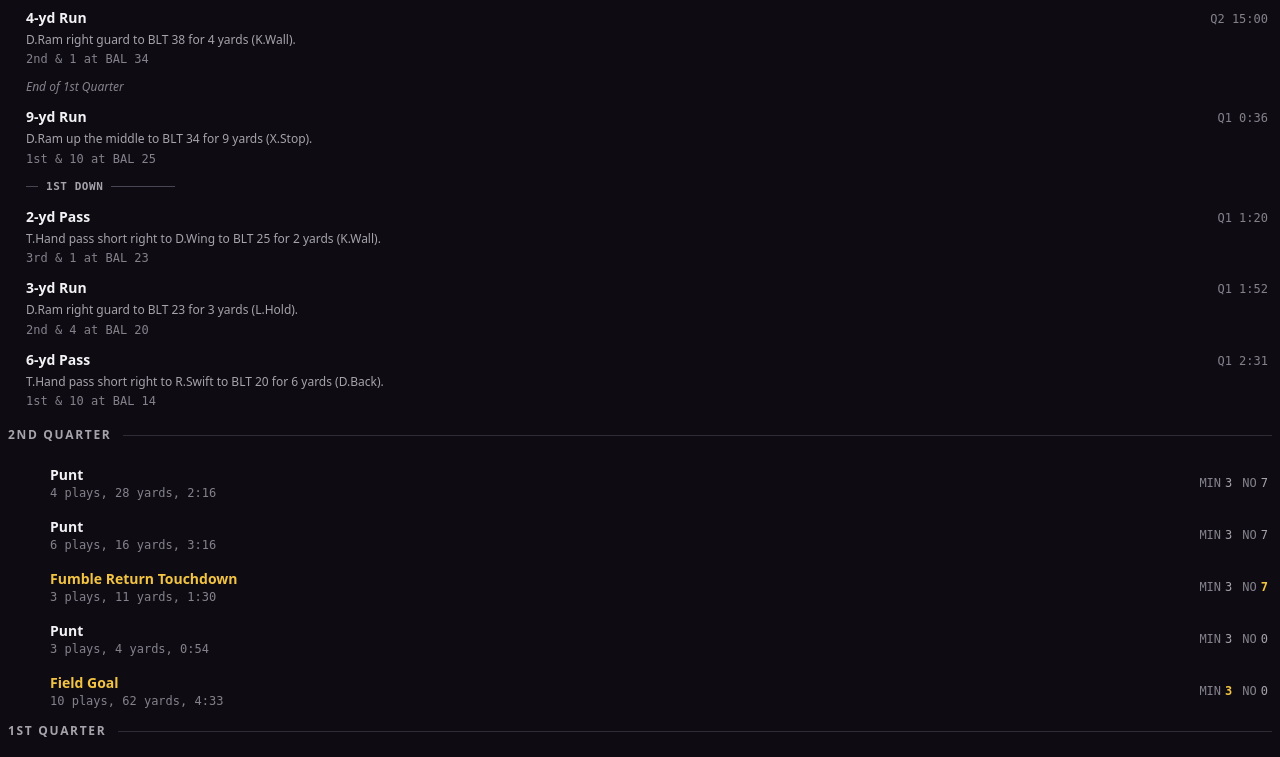
GameDetail plays on the field › puts a picked play on the field
The image size is (1280, 757).
(page scrolled)
Click the text "Field Goal" at [84, 683], box [50,673,118,692]
(page scrolled)
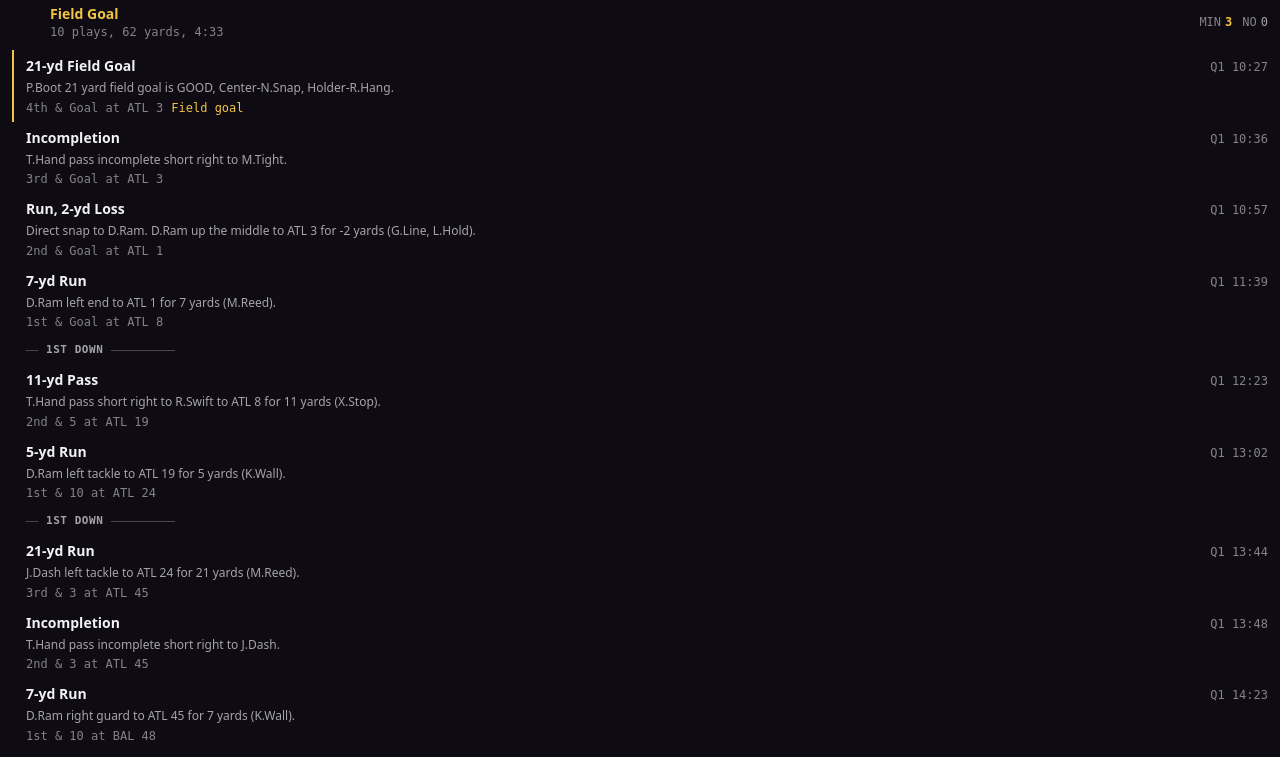
Click the button named "2nd & 5 at ATL 19" at [62, 380], box [12,364,1272,436]
(page scrolled)
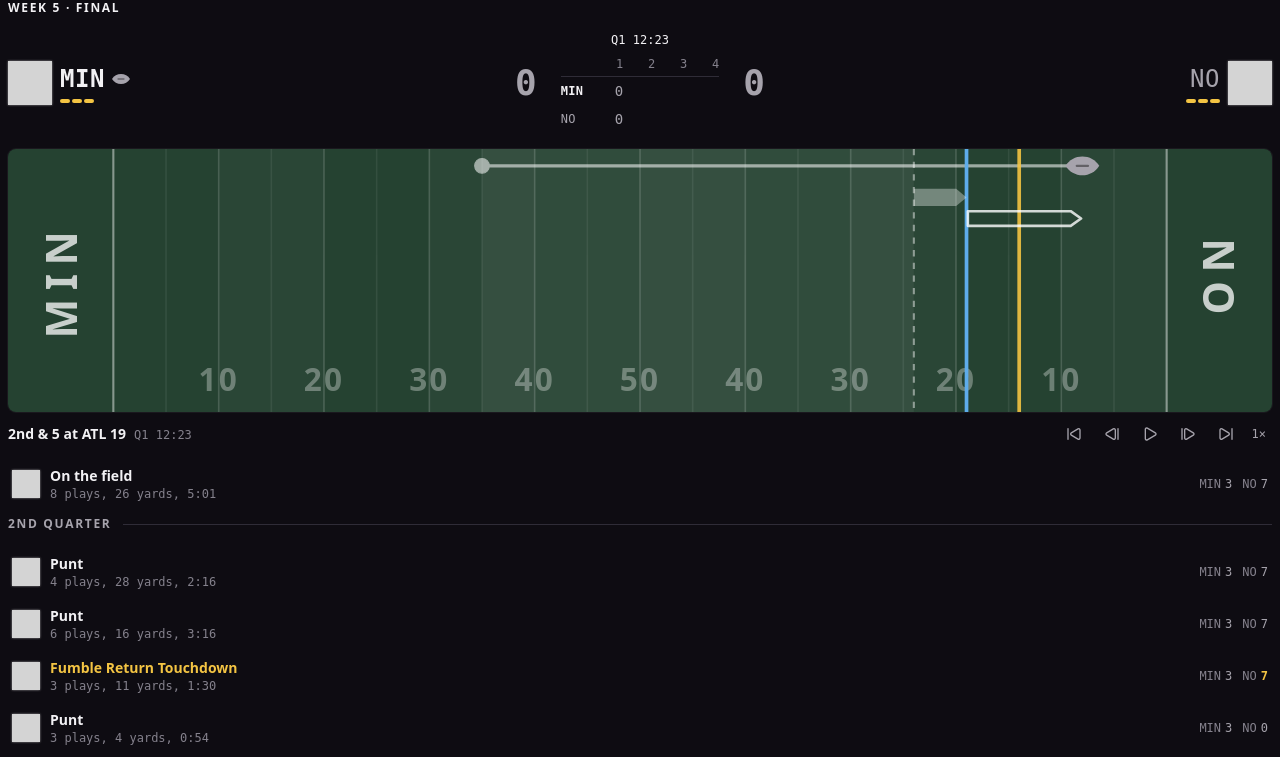
Expected: the picture named "MIN ball on NO 19, line to gain NO 14, play ended at NO 8" is shown, [8,149,1272,412]
